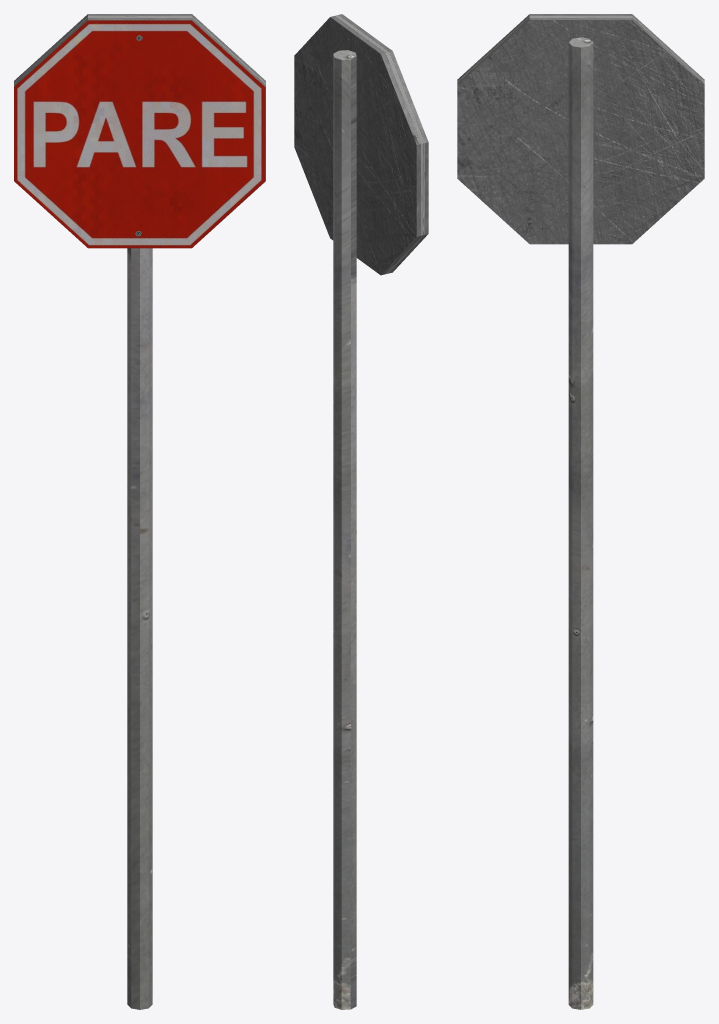
The model's file is placaPare.fbx.
3 renders of one model, left to right at view 1: azimuth 90°, elevation 25°; view 2: azimuth 210°, elevation 25°; view 3: azimuth 270°, elevation 25°, orthographic. The views are drawn at different scales.
Parts seen in each view (by area): view 1: Cylinder; view 2: Cylinder; view 3: Cylinder.
Boxes of the visible parts, <box> form: Cylinder: <box>14,14,265,1009</box>; Cylinder: <box>294,14,428,1009</box>; Cylinder: <box>457,14,704,1009</box>.
Size of the model in its own units: 8.94 by 250 by 57.15.
